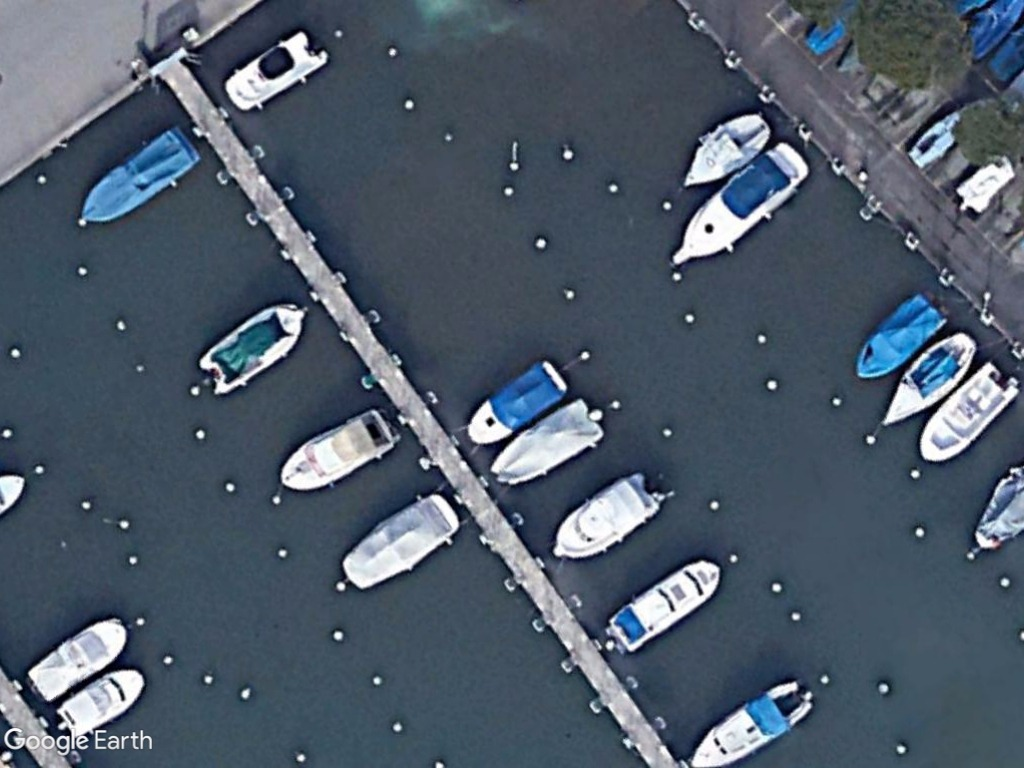boat: (664, 145, 808, 262), (78, 124, 199, 227), (340, 491, 460, 590), (195, 298, 310, 395), (688, 680, 812, 768), (606, 559, 721, 652), (275, 407, 399, 493), (876, 331, 979, 431), (490, 400, 608, 487), (547, 473, 659, 563), (919, 360, 1015, 464), (464, 356, 567, 450), (222, 23, 328, 113), (25, 614, 130, 704), (854, 292, 948, 381), (678, 108, 773, 189), (57, 663, 149, 738)
